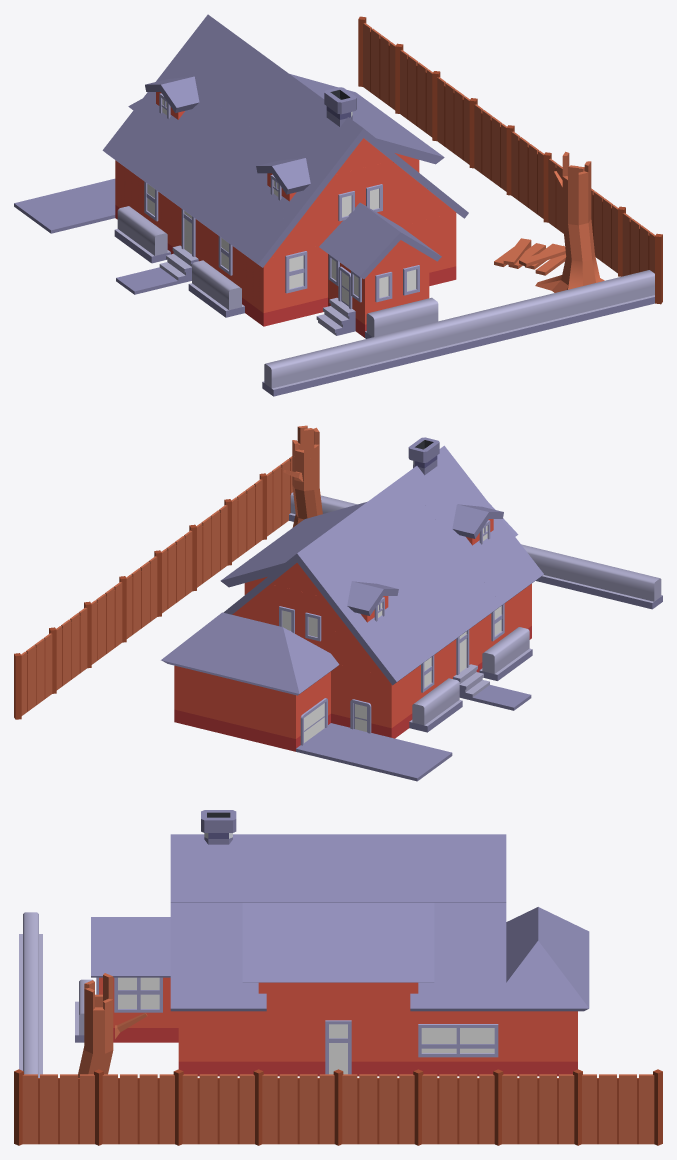
The model's file is House_001.fbx.
3 renders of one model, top to bottom at view 1: azimuth 30°, elevation 25°; view 2: azimuth 150°, elevation 25°; view 3: azimuth 270°, elevation 25°, orthographic. The views are drawn at different scales.
Parts seen in each view (by area): view 1: mergedBlocks; view 2: mergedBlocks; view 3: mergedBlocks.
Part boxes in pixels (x1,y1,x2,y2): mergedBlocks: (14,14,662,396); mergedBlocks: (14,425,662,781); mergedBlocks: (14,810,662,1145).
Bounding box in the file's own units: 303 × 145 × 406.
